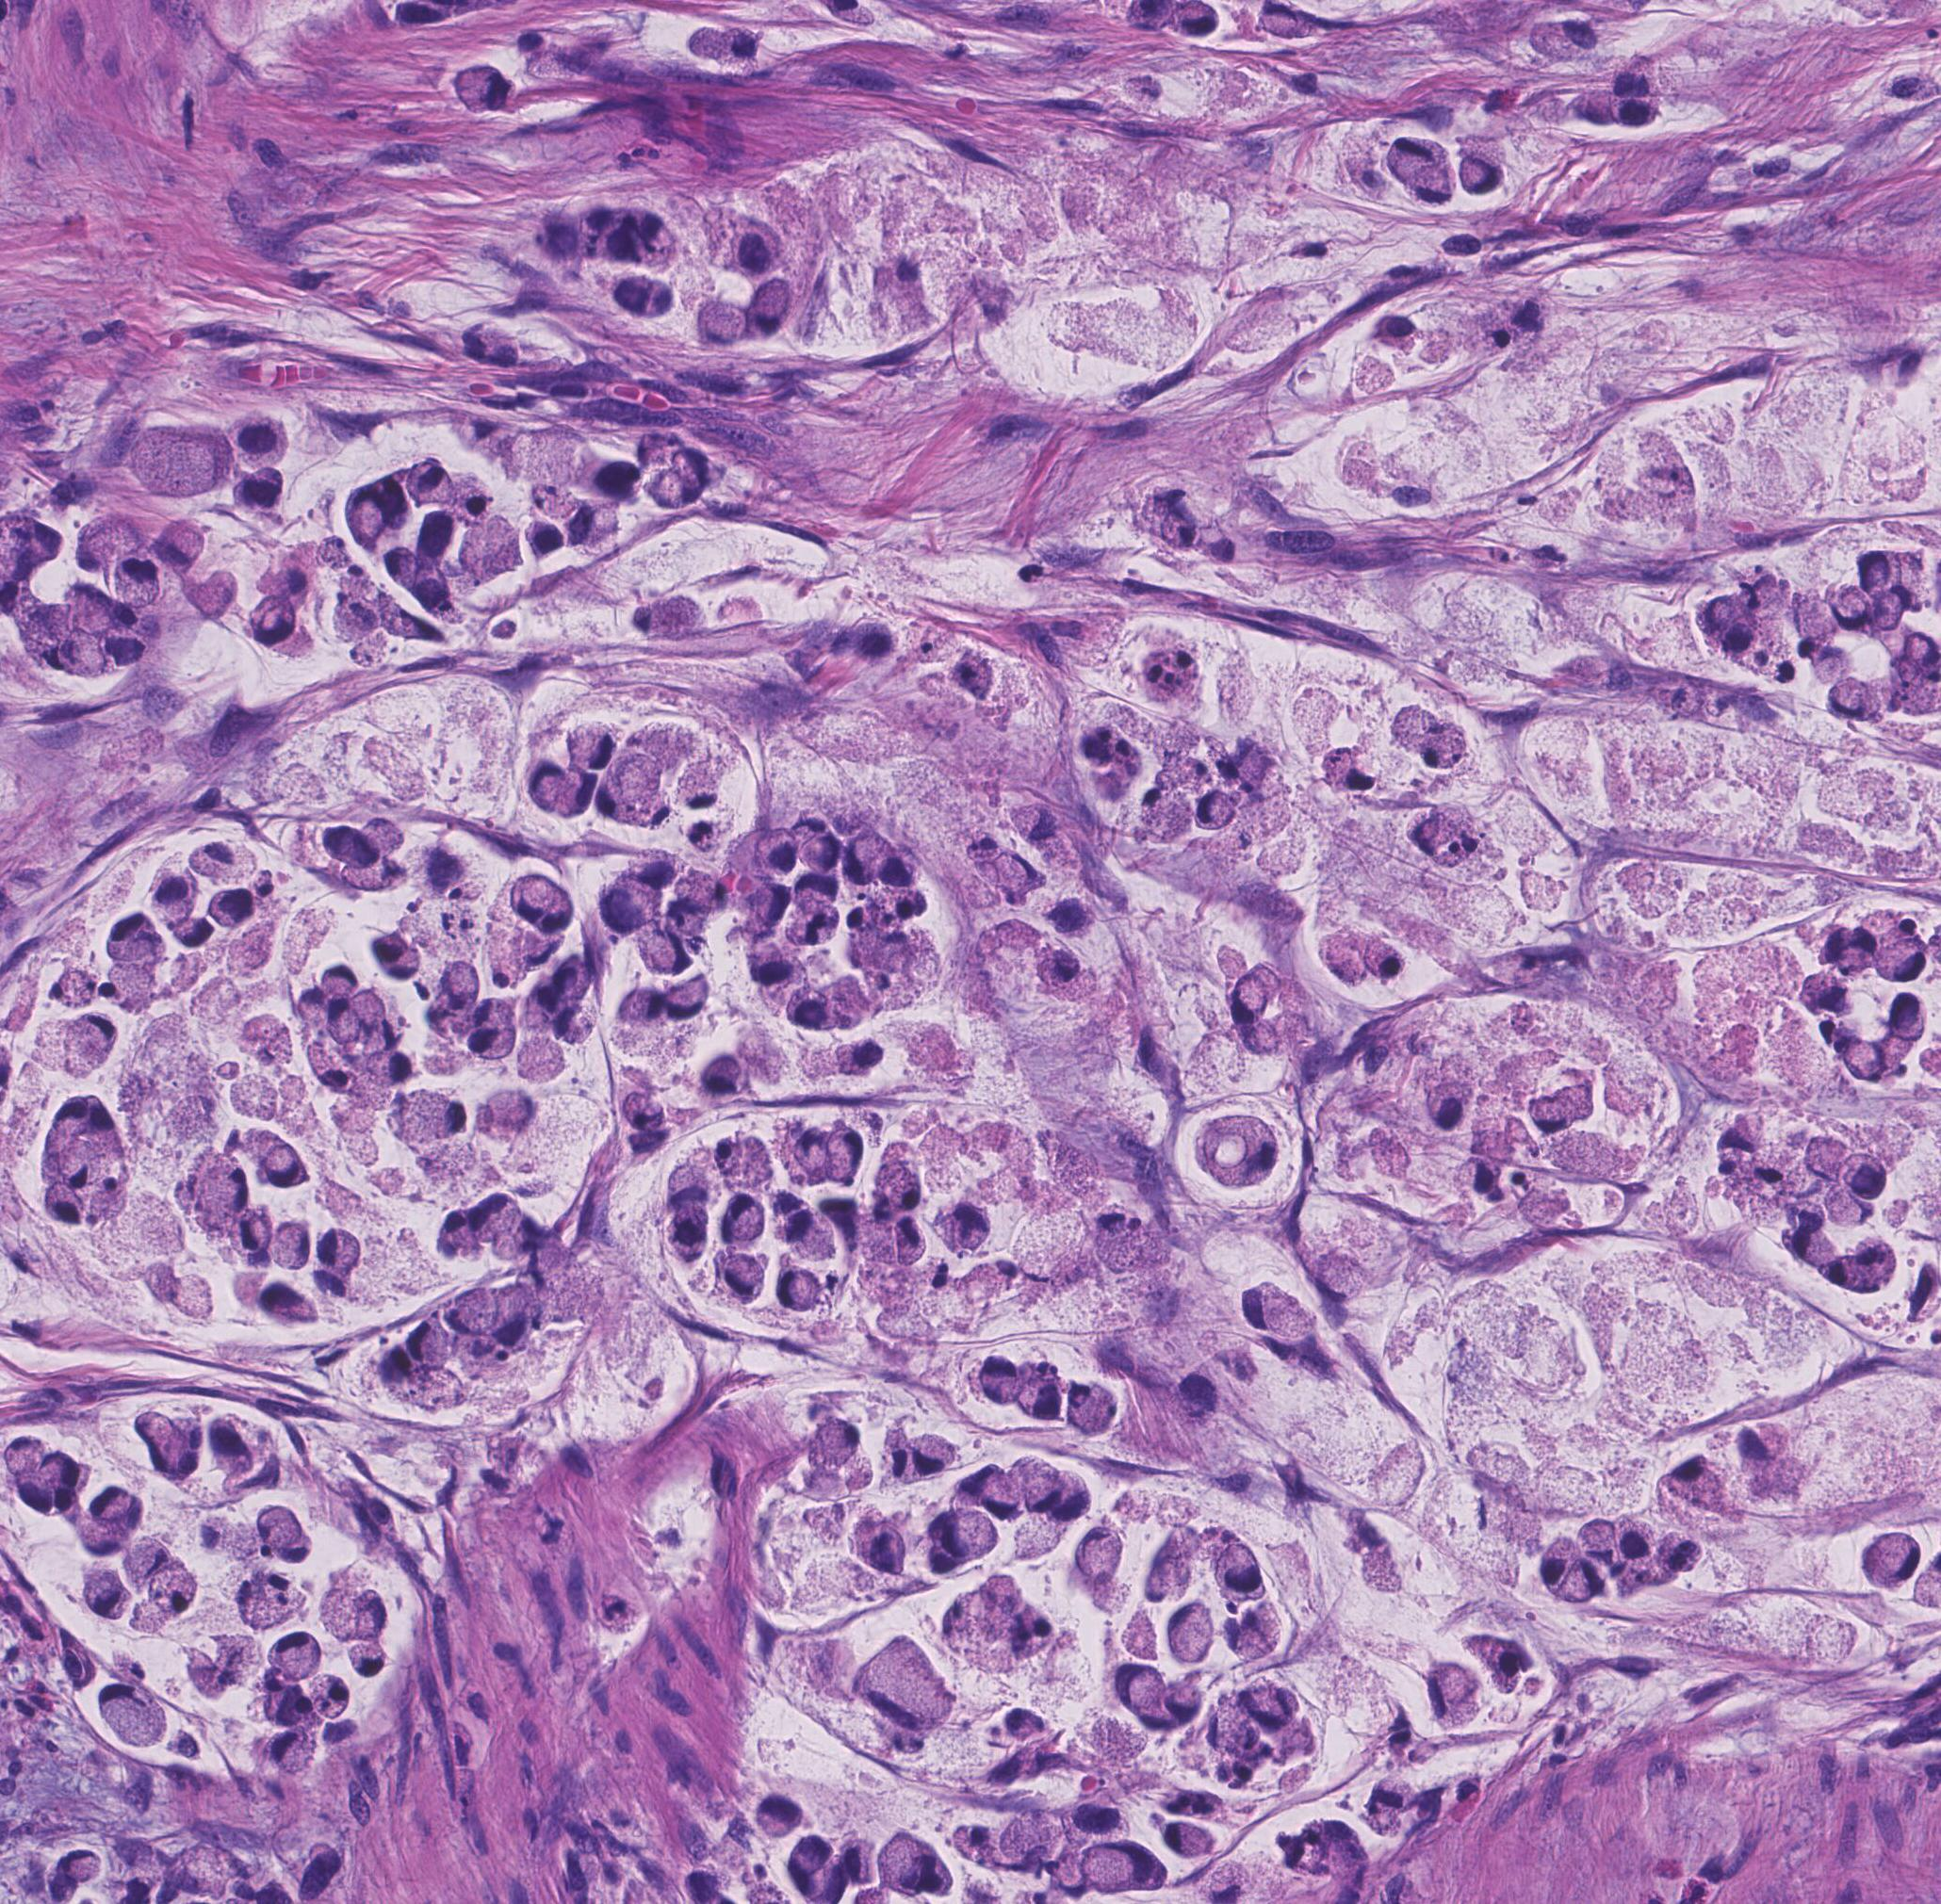ring_cell_cancer: (849, 1642, 952, 1730), (882, 1827, 952, 1902), (1212, 1116, 1282, 1187), (591, 206, 673, 263), (1083, 1843, 1167, 1895), (99, 1684, 164, 1749), (1465, 1627, 1529, 1691), (1243, 1282, 1317, 1337), (94, 907, 160, 962), (73, 518, 138, 574), (514, 872, 574, 931), (1857, 1529, 1918, 1587), (1378, 134, 1449, 180), (377, 593, 434, 649), (1352, 1520, 1397, 1590), (1093, 1208, 1142, 1273), (628, 600, 710, 638), (1428, 1660, 1475, 1726), (1135, 786, 1189, 844), (727, 216, 780, 275), (1320, 750, 1379, 800), (1100, 1656, 1160, 1707), (150, 861, 199, 922), (1168, 1597, 1212, 1665), (68, 1011, 115, 1074), (752, 1787, 809, 1838), (577, 457, 638, 504), (405, 1093, 466, 1140), (942, 1198, 992, 1254), (1531, 1085, 1590, 1132), (439, 1289, 501, 1334), (321, 823, 384, 867), (1414, 720, 1465, 774), (495, 1283, 535, 1351), (1878, 921, 1925, 978), (228, 418, 288, 464), (881, 1153, 926, 1212), (77, 591, 138, 635), (612, 275, 673, 319), (155, 525, 208, 575), (9, 520, 61, 570), (134, 1414, 183, 1468), (453, 68, 511, 113), (752, 281, 795, 340), (1243, 1684, 1303, 1728), (846, 619, 898, 668), (1022, 1363, 1064, 1425), (1236, 1609, 1284, 1663), (1141, 656, 1198, 699), (848, 903, 891, 961), (345, 488, 387, 547), (201, 1163, 249, 1214), (778, 1208, 827, 1259), (1015, 806, 1062, 858), (188, 840, 249, 881), (1798, 973, 1854, 1017), (1536, 1527, 1573, 1594), (790, 983, 837, 1034), (1662, 1458, 1713, 1505), (1073, 1383, 1118, 1435), (405, 1318, 450, 1370), (598, 884, 642, 938), (936, 1512, 991, 1555), (1214, 1552, 1268, 1595), (1791, 603, 1833, 659), (715, 1140, 771, 1182), (1821, 1252, 1876, 1294), (248, 598, 296, 645), (600, 774, 647, 823), (752, 950, 797, 1001), (698, 305, 750, 349), (209, 1419, 253, 1472), (1076, 1529, 1120, 1581), (830, 1125, 868, 1184), (790, 1834, 828, 1894), (1690, 589, 1732, 643), (1821, 1189, 1876, 1229), (1317, 1255, 1364, 1302), (412, 511, 457, 560), (642, 928, 691, 973), (813, 1419, 858, 1468), (977, 1465, 1020, 1515), (1777, 1222, 1829, 1264), (1406, 814, 1451, 861), (567, 725, 616, 769), (80, 1569, 124, 1618), (403, 460, 453, 502), (1141, 1032, 1182, 1083), (671, 1210, 713, 1261), (230, 476, 283, 516), (521, 757, 562, 809), (1165, 1681, 1217, 1721), (752, 882, 790, 936), (478, 933, 516, 987), (1427, 1081, 1472, 1126), (253, 1503, 300, 1547), (1454, 155, 1503, 197), (1828, 678, 1876, 720), (262, 1283, 310, 1325), (1374, 1778, 1416, 1827), (565, 506, 616, 546), (722, 1196, 762, 1247), (446, 481, 492, 525), (1833, 926, 1876, 971), (720, 1254, 764, 1299), (1847, 1153, 1890, 1198), (621, 1088, 668, 1130), (753, 825, 793, 874), (1366, 936, 1409, 980), (473, 1193, 516, 1236), (1739, 570, 1784, 612), (673, 448, 720, 488), (1505, 296, 1552, 337), (49, 968, 96, 1008), (680, 762, 720, 809), (788, 908, 835, 949), (619, 987, 666, 1027), (1606, 65, 1660, 99), (555, 771, 593, 819), (1890, 992, 1927, 1043), (837, 1834, 874, 1885), (689, 42, 764, 66), (1822, 588, 1866, 629), (848, 832, 882, 884), (793, 1125, 828, 1177), (58, 635, 103, 675), (952, 652, 992, 697), (307, 1050, 352, 1090), (260, 1147, 307, 1186), (274, 1639, 324, 1674), (54, 1144, 96, 1186), (1458, 1158, 1500, 1200), (209, 889, 253, 929), (265, 1731, 309, 1771), (978, 1360, 1018, 1404), (680, 870, 725, 908), (469, 1025, 523, 1057), (1409, 167, 1451, 207), (1195, 790, 1236, 830), (910, 1435, 952, 1475), (649, 474, 699, 507), (778, 1268, 816, 1311), (1020, 1465, 1059, 1508), (51, 1091, 87, 1137), (356, 860, 412, 889), (92, 1100, 120, 1159), (881, 846, 921, 886), (319, 1229, 359, 1269), (415, 570, 453, 612), (1617, 99, 1674, 127), (1847, 1043, 1885, 1085), (129, 1540, 171, 1578), (1003, 851, 1039, 894), (1856, 544, 1890, 589), (705, 1053, 739, 1098), (277, 1222, 312, 1268), (1892, 563, 1925, 610), (1236, 975, 1270, 1022), (445, 962, 478, 1010), (664, 982, 706, 1018), (1617, 1520, 1653, 1562), (1161, 1824, 1210, 1855), (234, 1212, 270, 1252), (323, 1001, 359, 1041), (89, 1487, 131, 1522), (441, 1210, 474, 1254), (354, 1590, 387, 1634), (521, 523, 562, 558), (368, 1008, 403, 1048), (1003, 1703, 1043, 1738), (1568, 98, 1615, 127), (169, 917, 211, 950), (1048, 903, 1090, 936), (881, 933, 914, 975), (471, 997, 520, 1025), (896, 1219, 926, 1264), (384, 547, 417, 588), (640, 788, 673, 828), (1378, 317, 1420, 349), (1041, 952, 1083, 983), (558, 1011, 600, 1043), (1570, 1559, 1597, 1606), (1468, 330, 1512, 359), (1723, 622, 1753, 666), (804, 835, 841, 870), (51, 1186, 84, 1224), (296, 987, 328, 1027), (347, 1644, 387, 1676), (65, 1850, 99, 1885), (520, 933, 556, 966), (370, 929, 408, 961), (558, 957, 589, 996), (841, 1046, 882, 1074), (371, 1055, 413, 1083), (5, 1440, 40, 1473), (314, 1684, 347, 1719), (321, 964, 358, 996), (1768, 650, 1796, 687), (392, 950, 429, 978), (799, 879, 839, 903), (689, 823, 720, 851), (970, 837, 1001, 863), (795, 818, 825, 840)
